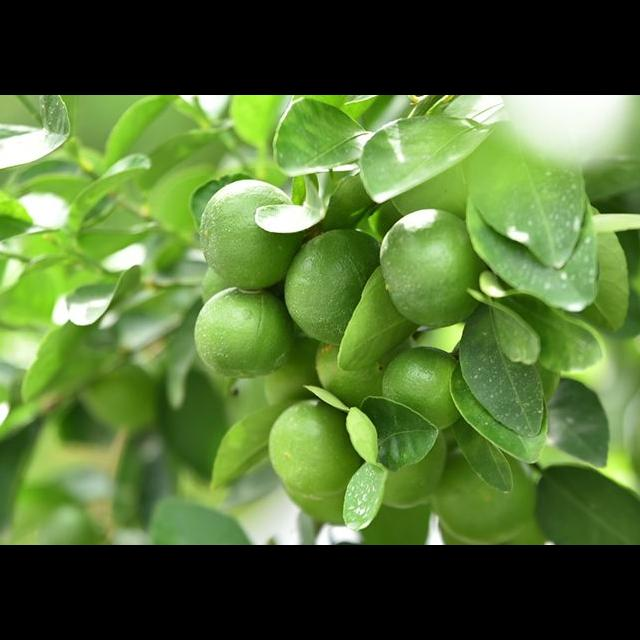lime: (381, 208, 495, 329), (285, 228, 391, 350), (201, 178, 300, 294), (271, 400, 369, 495), (196, 288, 298, 378), (384, 348, 473, 435)
